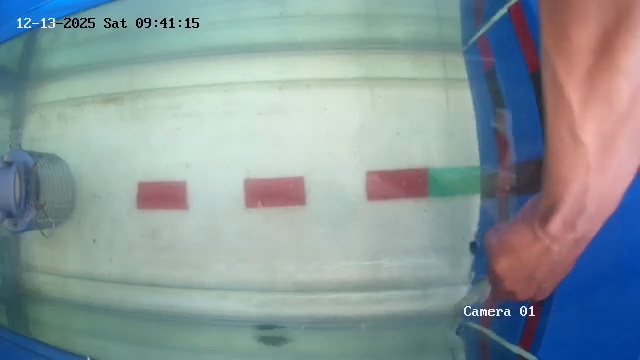fish: (259, 317, 309, 340)
